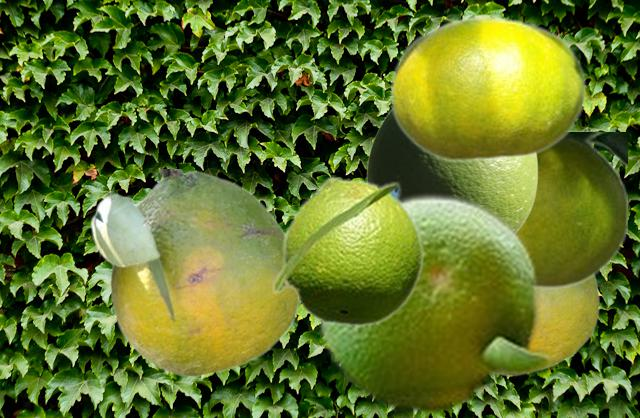dalandan: (314, 190, 555, 413), (89, 169, 299, 376), (389, 14, 585, 162), (270, 175, 424, 327), (366, 110, 537, 228), (521, 132, 626, 288), (537, 276, 599, 365)
